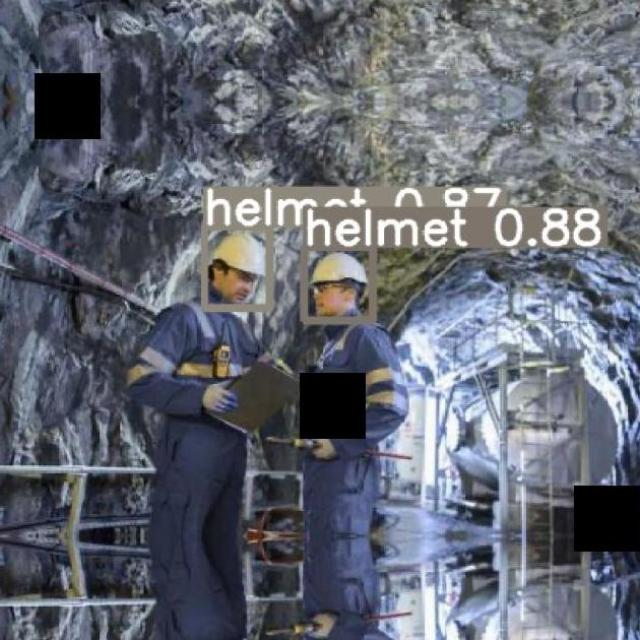white helmet: (206, 232, 269, 284), (310, 249, 371, 289)
